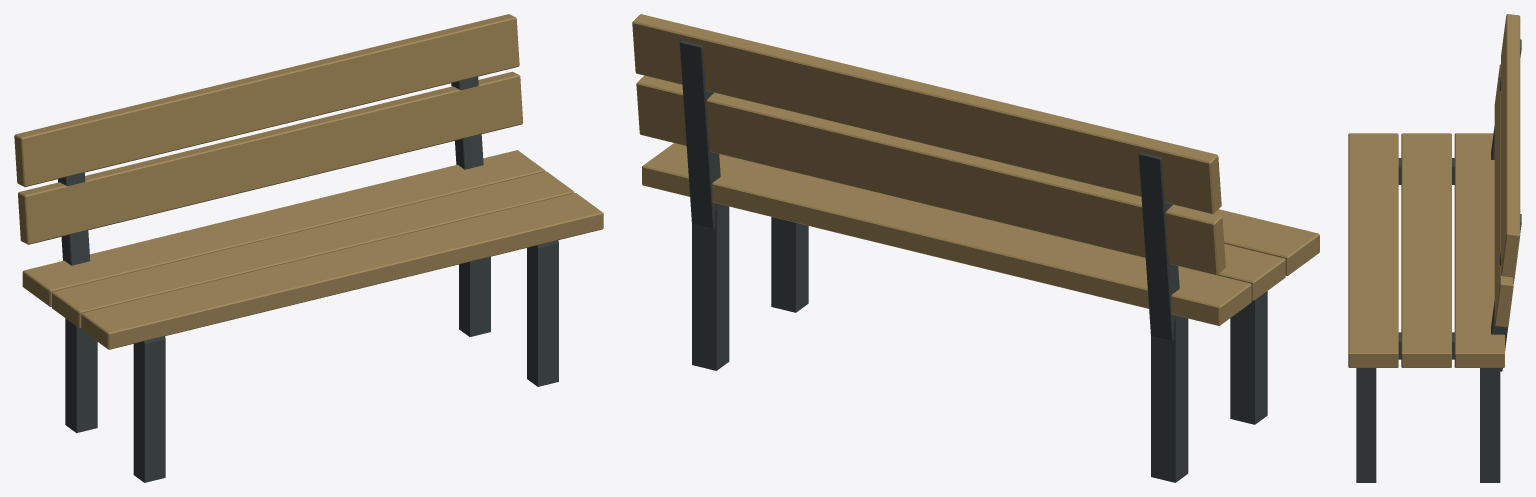
Rendered from bench.glb.
3 renders of one model, left to right at view 1: azimuth 30°, elevation 25°; view 2: azimuth 150°, elevation 25°; view 3: azimuth 270°, elevation 25°, orthographic. The views are drawn at different scales.
Visible parts, largest first — view 1: Continuous inverted-U metal support; view 2: Continuous inverted-U metal support; view 3: Continuous inverted-U metal support.
Boxes of the visible parts, x1,y1,x2,y2 form: Continuous inverted-U metal support: (14, 14, 603, 482); Continuous inverted-U metal support: (632, 14, 1319, 482); Continuous inverted-U metal support: (1348, 14, 1521, 482).
Size of the model in its own units: 1.5 by 0.85 by 0.5.
